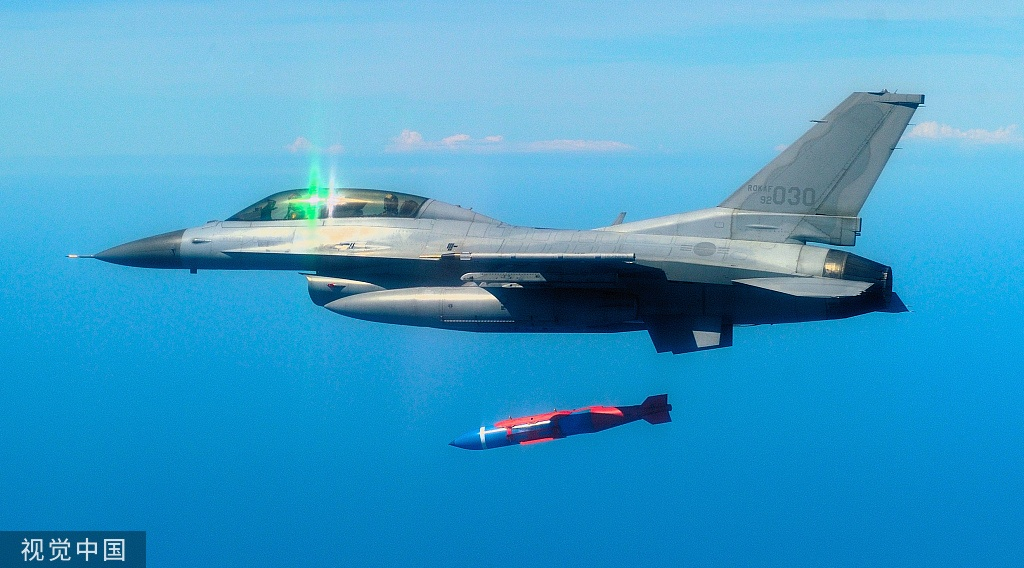airplane: (67, 92, 925, 356)
